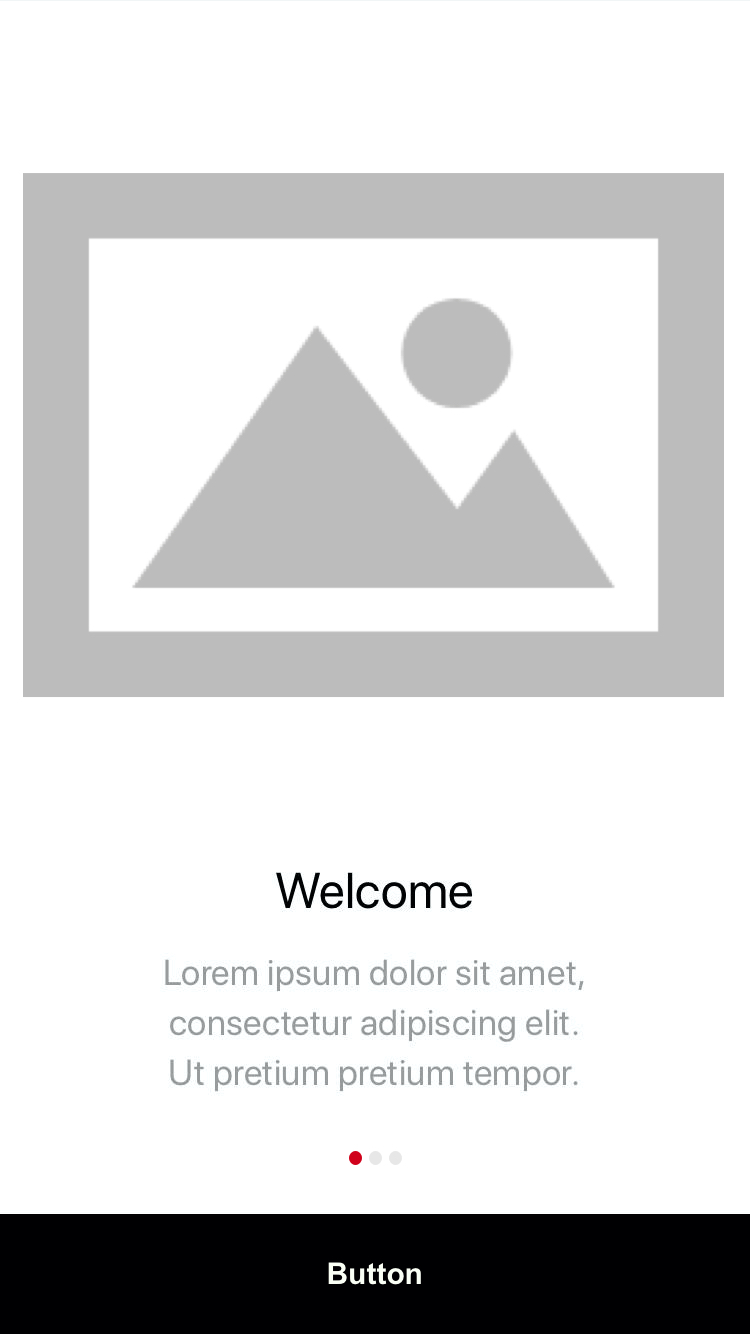Image: (22, 171, 727, 700)
PageIndicator: (349, 1150, 404, 1166)
Text: (163, 959, 589, 1092), (275, 872, 473, 910)
TextButton: (1, 1214, 750, 1334)
